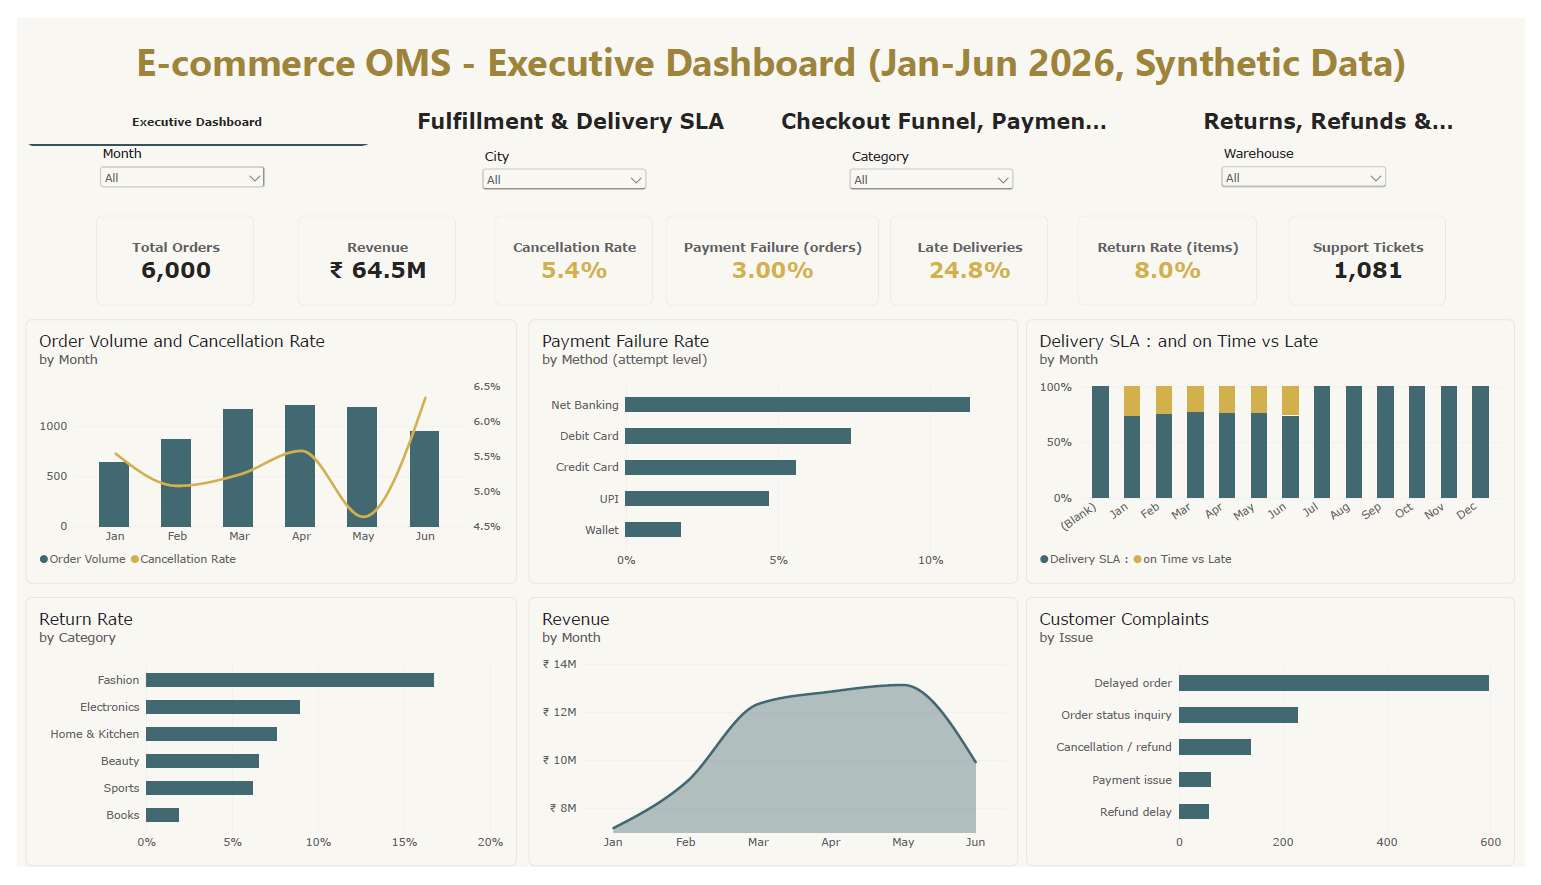

The page's visual inventory and layout, read from the dashboard file:
{"tool":"powerbi","page":{"name":"Executive Dashboard","canvas":[1920,1080],"ordinal":0},"visuals":[{"type":"textbox","box":[9.5,21.5,1901.6,78.7],"z":0},{"type":"cardVisual","fields":{"Data":["orders.Total Orders"]},"box":[100.2,250.5,200.4,114.5],"z":1000},{"type":"cardVisual","fields":{"Data":["orders.Revenue"]},"box":[357.3,250.9,200.4,114.5],"z":2000},{"type":"cardVisual","fields":{"Data":["orders.Cancellation Rate %"]},"box":[608.2,250.9,200.4,114.5],"z":3000},{"type":"cardVisual","fields":{"Data":["payments.Payment Failure Rate % (orders)"]},"box":[826.1,250.9,271.2,114],"z":4000},{"type":"cardVisual","fields":{"Data":["shipments.Late Shipments %"]},"box":[1112.5,250.9,200.4,114.5],"z":5000},{"type":"cardVisual","fields":{"Data":["returns.Return Rate %"]},"box":[1350.7,250.9,228.1,114],"z":6000},{"type":"lineClusteredColumnComboChart","fields":{"Category":["Date.Month"],"Y":["orders.Total Orders"],"Y2":["orders.Cancellation Rate %"]},"box":[10.1,382.7,625.9,337],"z":8000},{"type":"clusteredBarChart","fields":{"Category":["payments.payment_method"],"Y":["payments.Payment Attempt Failure %"]},"box":[651.3,382.7,623.4,337],"z":9000},{"type":"hundredPercentStackedColumnChart","fields":{"Category":["Date.Month"],"Y":["shipments.Delivery SLA % (on time)","shipments.Late Shipments %"]},"box":[1284.8,382.7,623.4,337],"z":10000},{"type":"clusteredBarChart","fields":{"Category":["products.category"],"Y":["returns.Return Rate %"]},"box":[10.1,737.4,625.9,342.1],"z":11000},{"type":"areaChart","fields":{"Category":["Date.Month"],"Y":["orders.Revenue"]},"box":[651.3,737.4,623.4,342.1],"z":12000},{"type":"clusteredBarChart","fields":{"Category":["support_tickets.issue_category"],"Y":["support_tickets.Support Tickets"]},"box":[1284.8,737.4,623.4,342.1],"z":13000},{"type":"slicer","fields":{"Values":["Date.Month"]},"box":[100.2,162.2,219.5,62],"z":14000},{"type":"slicer","fields":{"Values":["customers.city"]},"box":[586.9,164.6,219.5,62],"z":14001},{"type":"slicer","fields":{"Values":["products.category"]},"box":[1054.6,164.6,219.5,62],"z":14002},{"type":"slicer","fields":{"Values":["shipments.warehouse"]},"box":[1529.4,162.2,219.5,62],"z":14003},{"type":"cardVisual","fields":{"Data":["support_tickets.Support Tickets"]},"box":[1620,250.5,200.4,114.5],"z":14004},{"type":"pageNavigator","box":[9.5,100.2,1896.8,62],"z":14005}]}

Visuals, with their boxes in screenshot pixels (x1, y1, x2, y2), scaled from the page's 1920x1080 canvas onto the 1541x885 screenshot:
textbox: rect(8, 18, 1534, 82)
cardVisual - orders.Total Orders: rect(80, 205, 241, 299)
cardVisual - orders.Revenue: rect(287, 206, 448, 299)
cardVisual - orders.Cancellation Rate %: rect(488, 206, 649, 299)
cardVisual - payments.Payment Failure Rate % (orders): rect(663, 206, 881, 299)
cardVisual - shipments.Late Shipments %: rect(893, 206, 1054, 299)
cardVisual - returns.Return Rate %: rect(1084, 206, 1267, 299)
lineClusteredColumnComboChart - Date.Month x orders.Total Orders: rect(8, 314, 510, 590)
clusteredBarChart - payments.payment_method x payments.Payment Attempt Failure %: rect(523, 314, 1023, 590)
hundredPercentStackedColumnChart - Date.Month x shipments.Delivery SLA % (on time): rect(1031, 314, 1532, 590)
clusteredBarChart - products.category x returns.Return Rate %: rect(8, 604, 510, 884)
areaChart - Date.Month x orders.Revenue: rect(523, 604, 1023, 884)
clusteredBarChart - support_tickets.issue_category x support_tickets.Support Tickets: rect(1031, 604, 1532, 884)
slicer - Date.Month: rect(80, 133, 257, 184)
slicer - customers.city: rect(471, 135, 647, 186)
slicer - products.category: rect(846, 135, 1023, 186)
slicer - shipments.warehouse: rect(1228, 133, 1404, 184)
cardVisual - support_tickets.Support Tickets: rect(1300, 205, 1461, 299)
pageNavigator: rect(8, 82, 1530, 133)
